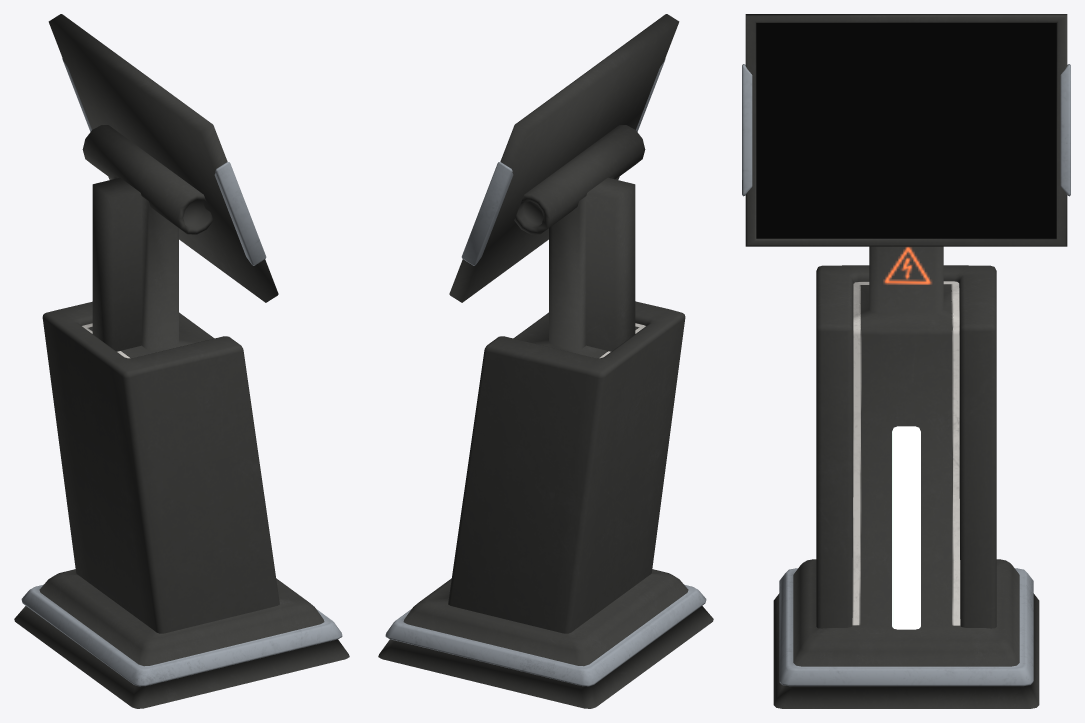
File: Terminal_v3.fbx
3 views of the same model, side by side, from view 1: azimuth 30°, elevation 25°; view 2: azimuth 150°, elevation 25°; view 3: azimuth 270°, elevation 25° (orthographic). The views are drawn at different scales.
Visible parts, largest first — view 1: initialShadingGroupTerminal; view 2: initialShadingGroupTerminal; view 3: initialShadingGroupTerminal, initialShadingGroupTerminal.001.
Part boxes in pixels (x1,y1,x2,y2): initialShadingGroupTerminal: (14, 14, 349, 708); initialShadingGroupTerminal: (378, 14, 713, 708); initialShadingGroupTerminal: (742, 14, 1070, 708); initialShadingGroupTerminal.001: (756, 23, 1056, 238).
Size of the model in its own units: 2.01 by 5.14 by 2.49.
Materials: 2 (2 with a texture image).
